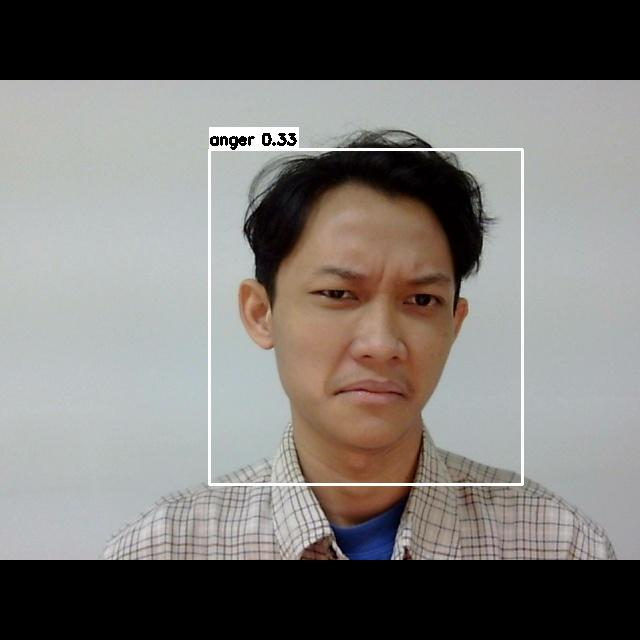Disgust: (294, 244, 469, 421)
